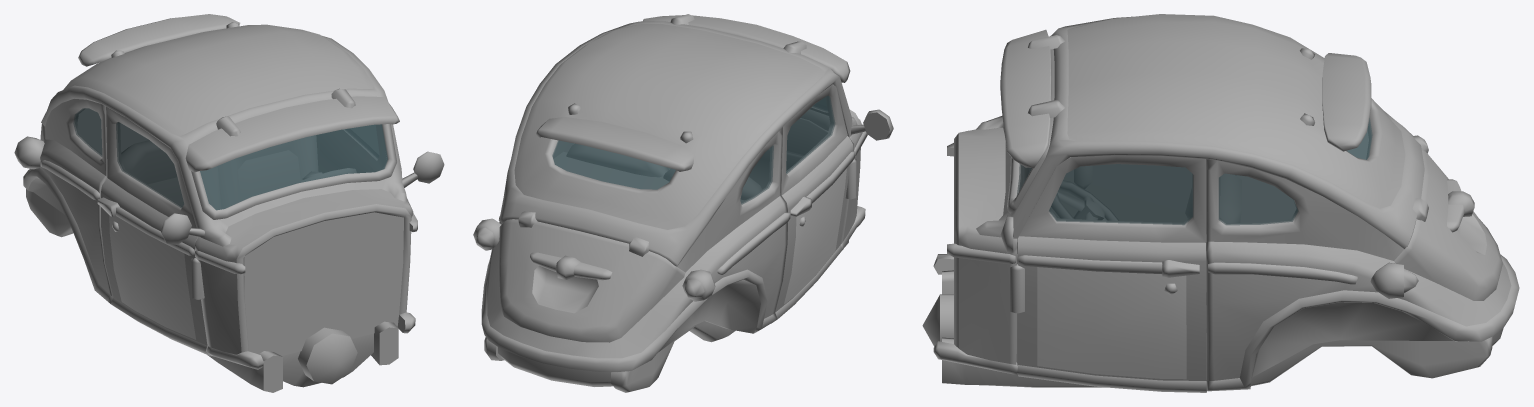
File: Body_Bee.fbx
3 renders of one model, left to right at view 1: azimuth 30°, elevation 25°; view 2: azimuth 150°, elevation 25°; view 3: azimuth 270°, elevation 25°, orthographic. The views are drawn at different scales.
Parts seen in each view (by area): view 1: Bee_Body, Bee_Body_Window, Bee_Body_Door_Right, Bee_Body_Cap, Bee_Body_Door_Right_Decal, Bee_Body_Spoiler, Bee_Body_Door_Right_Window, Bee_Body_Door_Left, Bee_Body_Door_Left_Window; view 2: Bee_Body, Bee_Body_Door_Right, Bee_Body_Window, Bee_Body_Spoiler, Bee_Body_Door_Right_Decal, Bee_Body_Cap, Bee_Body_Door_Right_Window; view 3: Bee_Body, Bee_Body_Door_Left, Bee_Body_Door_Left_Decal, Bee_Body_Door_Left_Window, Bee_Body_Cap, Bee_Body_Door_Right, Bee_Body_Spoiler, Bee_Body_Window, Bee_Body_SteerWheel.
Part boxes in pixels (x1=…): Bee_Body: x1=14, y1=22, x2=444, y2=392; Bee_Body_Window: x1=73, y1=108, x2=387, y2=210; Bee_Body_Door_Right: x1=97, y1=106, x2=211, y2=356; Bee_Body_Cap: x1=185, y1=88, x2=399, y2=172; Bee_Body_Door_Right_Decal: x1=109, y1=215, x2=195, y2=339; Bee_Body_Spoiler: x1=78, y1=14, x2=240, y2=66; Bee_Body_Door_Right_Window: x1=116, y1=122, x2=184, y2=208; Bee_Body_Door_Left: x1=319, y1=124, x2=386, y2=172; Bee_Body_Door_Left_Window: x1=346, y1=125, x2=378, y2=157; Bee_Body: x1=473, y1=21, x2=893, y2=392; Bee_Body_Door_Right: x1=771, y1=84, x2=855, y2=323; Bee_Body_Window: x1=552, y1=98, x2=827, y2=204; Bee_Body_Spoiler: x1=535, y1=117, x2=693, y2=171; Bee_Body_Door_Right_Decal: x1=784, y1=168, x2=846, y2=304; Bee_Body_Cap: x1=643, y1=14, x2=850, y2=82; Bee_Body_Door_Right_Window: x1=786, y1=96, x2=835, y2=173; Bee_Body: x1=922, y1=14, x2=1519, y2=391; Bee_Body_Door_Left: x1=1016, y1=155, x2=1206, y2=392; Bee_Body_Door_Left_Decal: x1=1037, y1=267, x2=1186, y2=379; Bee_Body_Door_Left_Window: x1=1049, y1=164, x2=1193, y2=225; Bee_Body_Cap: x1=1000, y1=29, x2=1064, y2=168; Bee_Body_Door_Right: x1=1028, y1=164, x2=1191, y2=222; Bee_Body_Spoiler: x1=1322, y1=53, x2=1371, y2=151; Bee_Body_Window: x1=1017, y1=118, x2=1372, y2=225; Bee_Body_SteerWheel: x1=1051, y1=180, x2=1118, y2=220.
Bounding box in the file's own units: 188 × 164 × 293.
